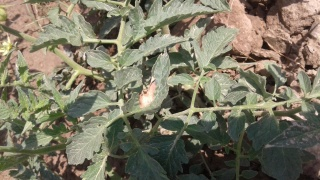tomato diseased leaf: (130, 56, 168, 109)
tomato flower: (1, 33, 21, 59)
tomato plant: (172, 61, 320, 172), (1, 63, 129, 178), (47, 1, 230, 58)
